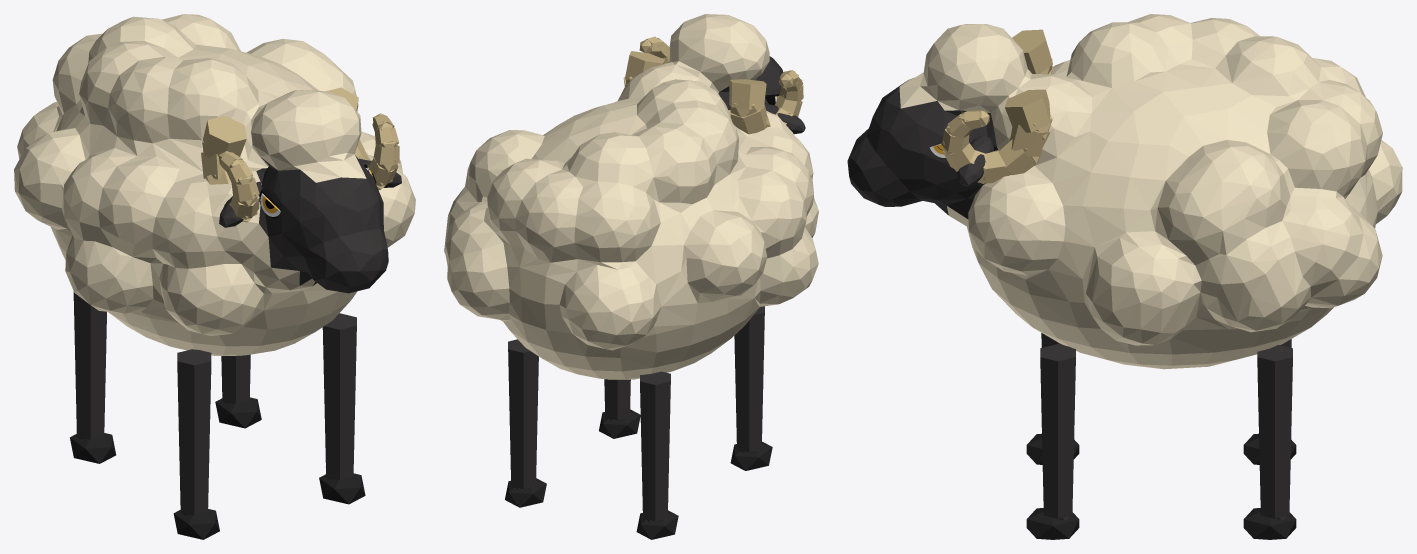
Rendered from sheep.glb.
The picture shows the model from 3 angles, left to right: view 1: azimuth 30°, elevation 25°; view 2: azimuth 150°, elevation 25°; view 3: azimuth 270°, elevation 25°; orthographic projection. The views are drawn at different scales.
Parts seen in each view (by area): view 1: Sheep; view 2: Sheep; view 3: Sheep.
Boxes of the visible parts, left/top/right/bottom form: Sheep: left=14, top=14, right=415, bottom=539; Sheep: left=444, top=14, right=818, bottom=539; Sheep: left=847, top=14, right=1402, bottom=539.
Size of the model in its own units: 0.7988 by 1.01 by 1.07.
